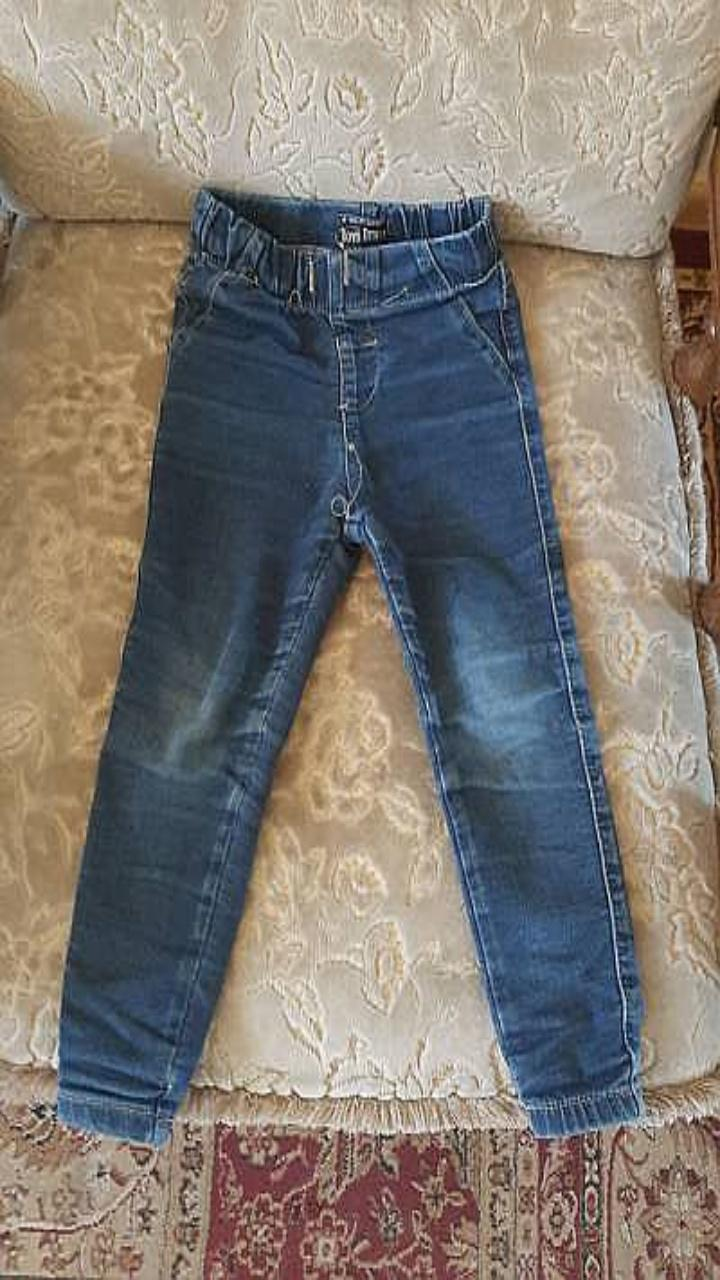Jeans: (57, 187, 644, 1145)
